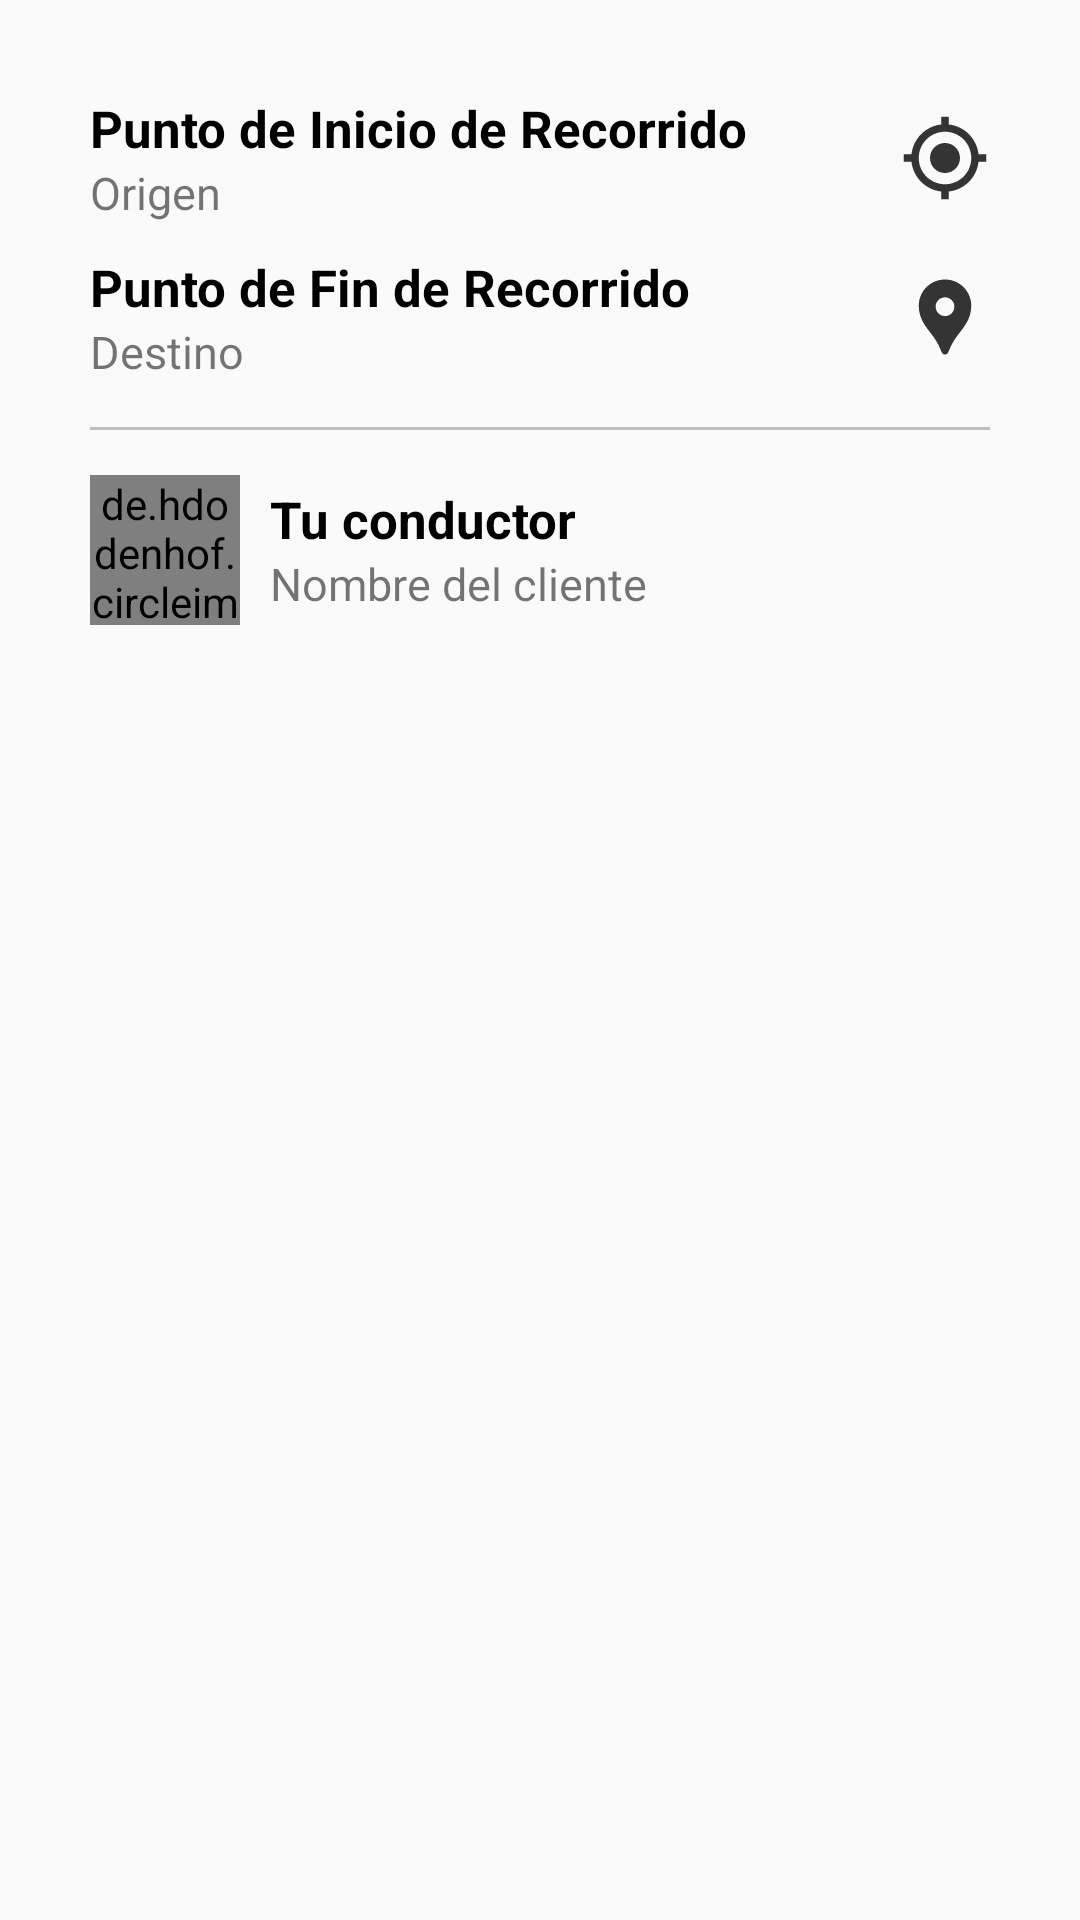

Icons on this 1080*1920 Android screen, each with the point to tap as (x,y):
location: (945,158), (945,317)
